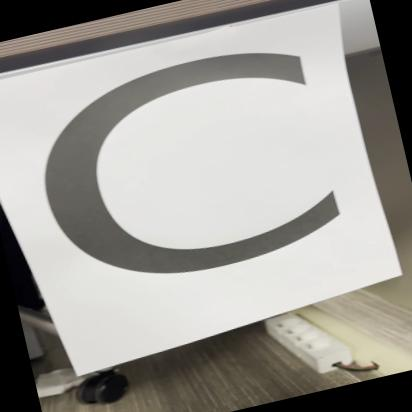seat: (0, 0, 401, 368)
